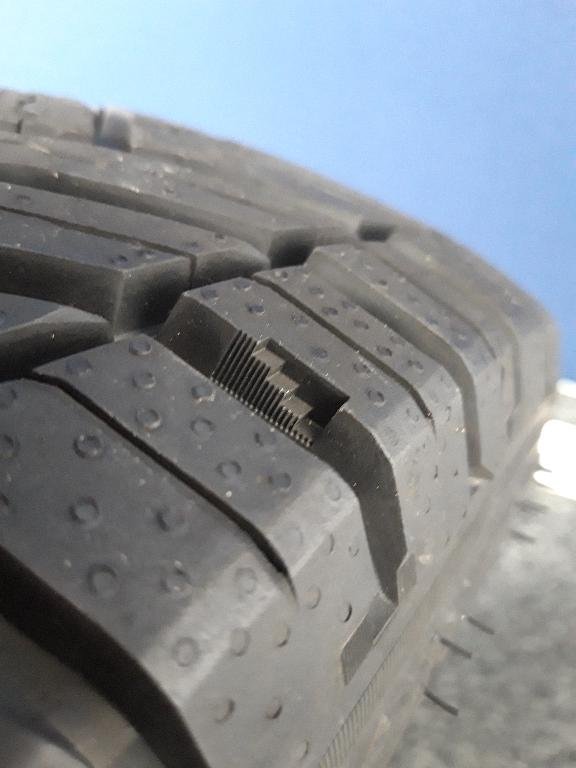temoin:100: (205, 325, 355, 455)
